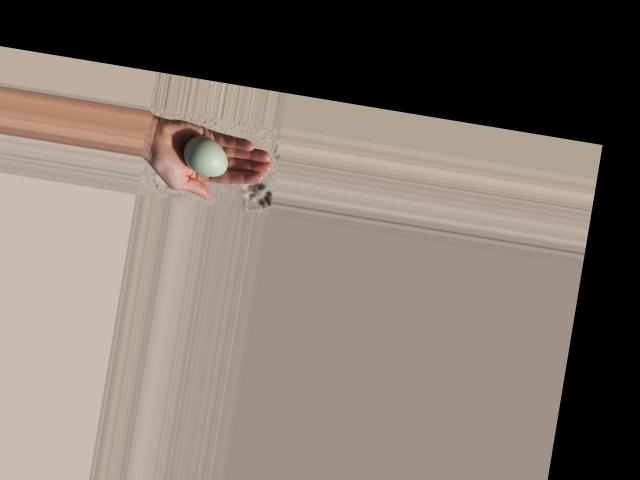egg: (181, 133, 232, 178)
